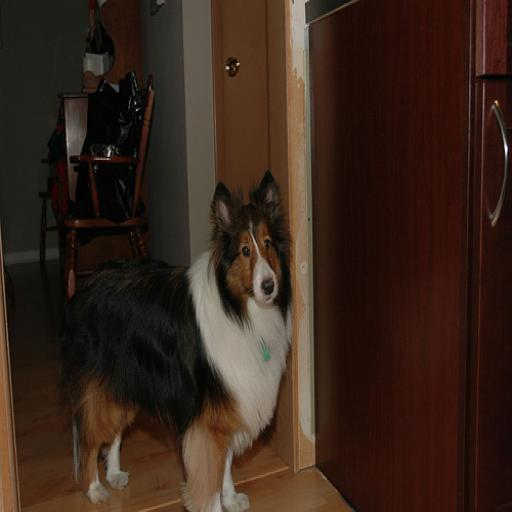dog_face: (215, 178, 286, 310)
